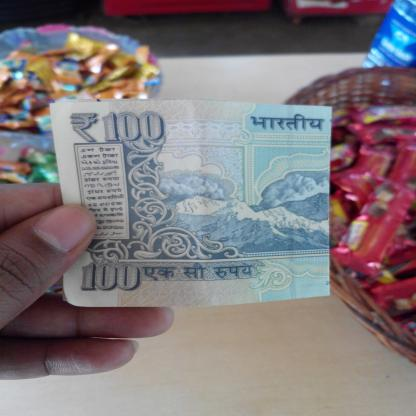Old100Back: (48, 100, 332, 308)
